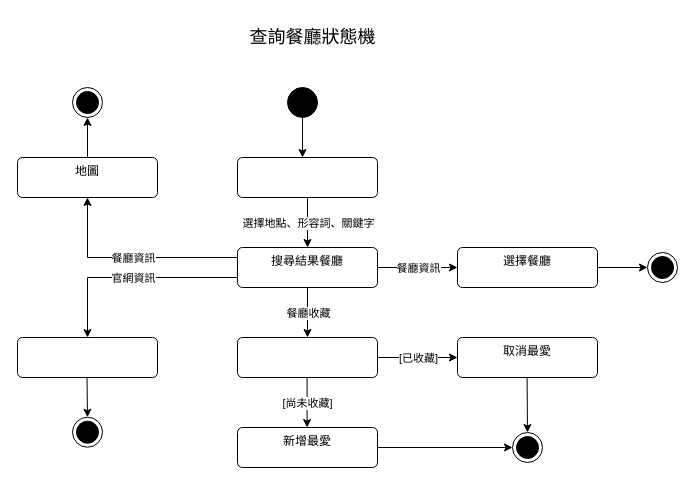
The diagram is 695 pixels wide and 485 high, and some of its shapes have lost their labels. The box of each missing label's shape, as (x1, y1, x2, y2) in pixels:
官網: (16, 336, 158, 378)
最愛: (236, 336, 378, 378)
登入中: (236, 156, 378, 198)
